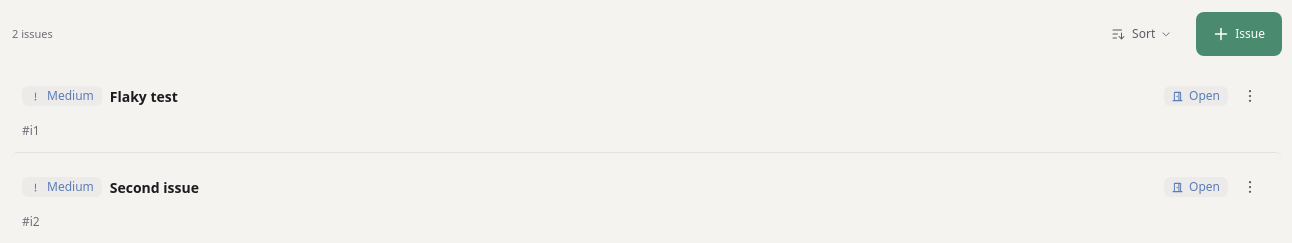
IssuesPage mobile header › narrow: kebab opens menu, Pin toggles and closes it
The image size is (1292, 243).
Click the button named "More actions for".
click(1250, 96)  # box [1228, 74, 1272, 118]
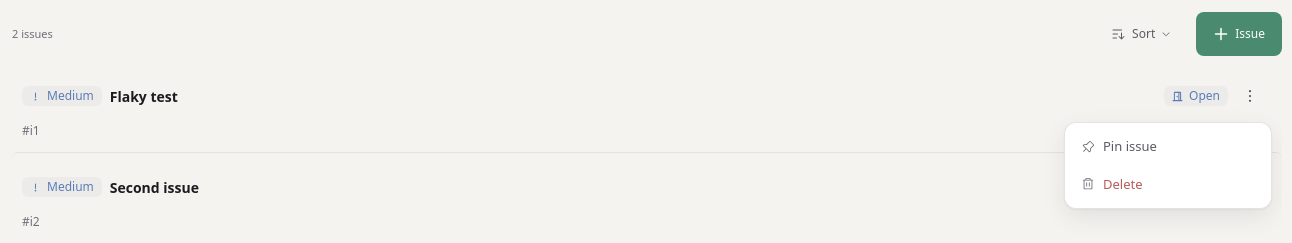
Now the menu is shown, box [1064, 122, 1272, 209]
Click the menu item "Pin issue".
click(1168, 147)  # box [1071, 129, 1265, 164]
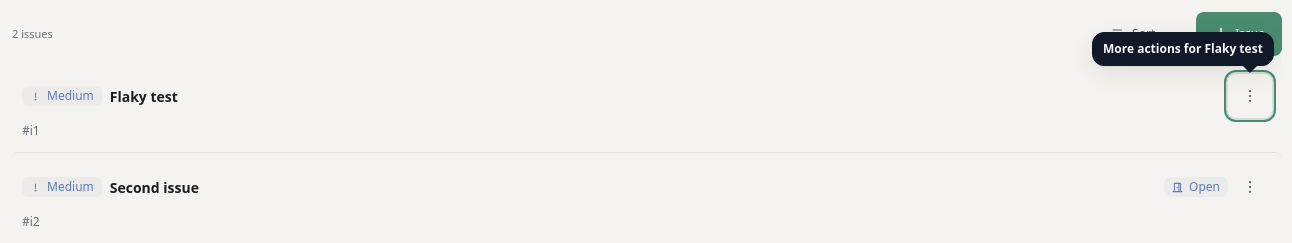
Now the menu is gone
